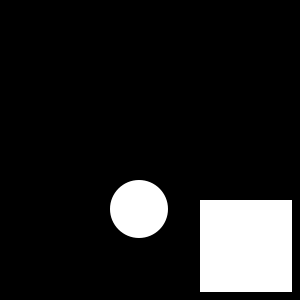circle: (200, 200, 292, 292)
rectangle: (110, 180, 168, 238)
